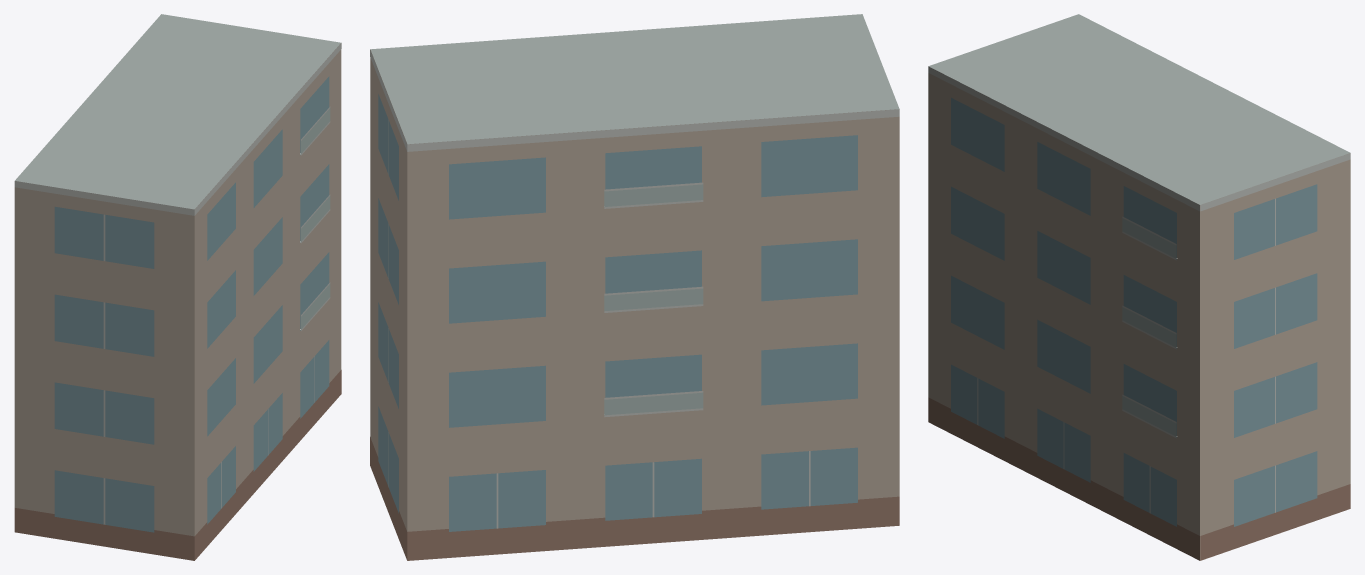
File: survey-upis-32740785.glb
3 views of the same model, side by side, from view 1: azimuth 30°, elevation 25°; view 2: azimuth 150°, elevation 25°; view 3: azimuth 270°, elevation 25° (orthographic). The views are drawn at different scales.
Parts seen in each view (by area): view 1: survey-upis-32740785.tmp; view 2: survey-upis-32740785.tmp; view 3: survey-upis-32740785.tmp.
Boxes of the visible parts, left/top/right/bottom form: survey-upis-32740785.tmp: left=14, top=14, right=341, bottom=560; survey-upis-32740785.tmp: left=370, top=14, right=899, bottom=560; survey-upis-32740785.tmp: left=928, top=14, right=1350, bottom=560.
Size of the model in its own units: 15.32 by 13.3 by 14.32.
